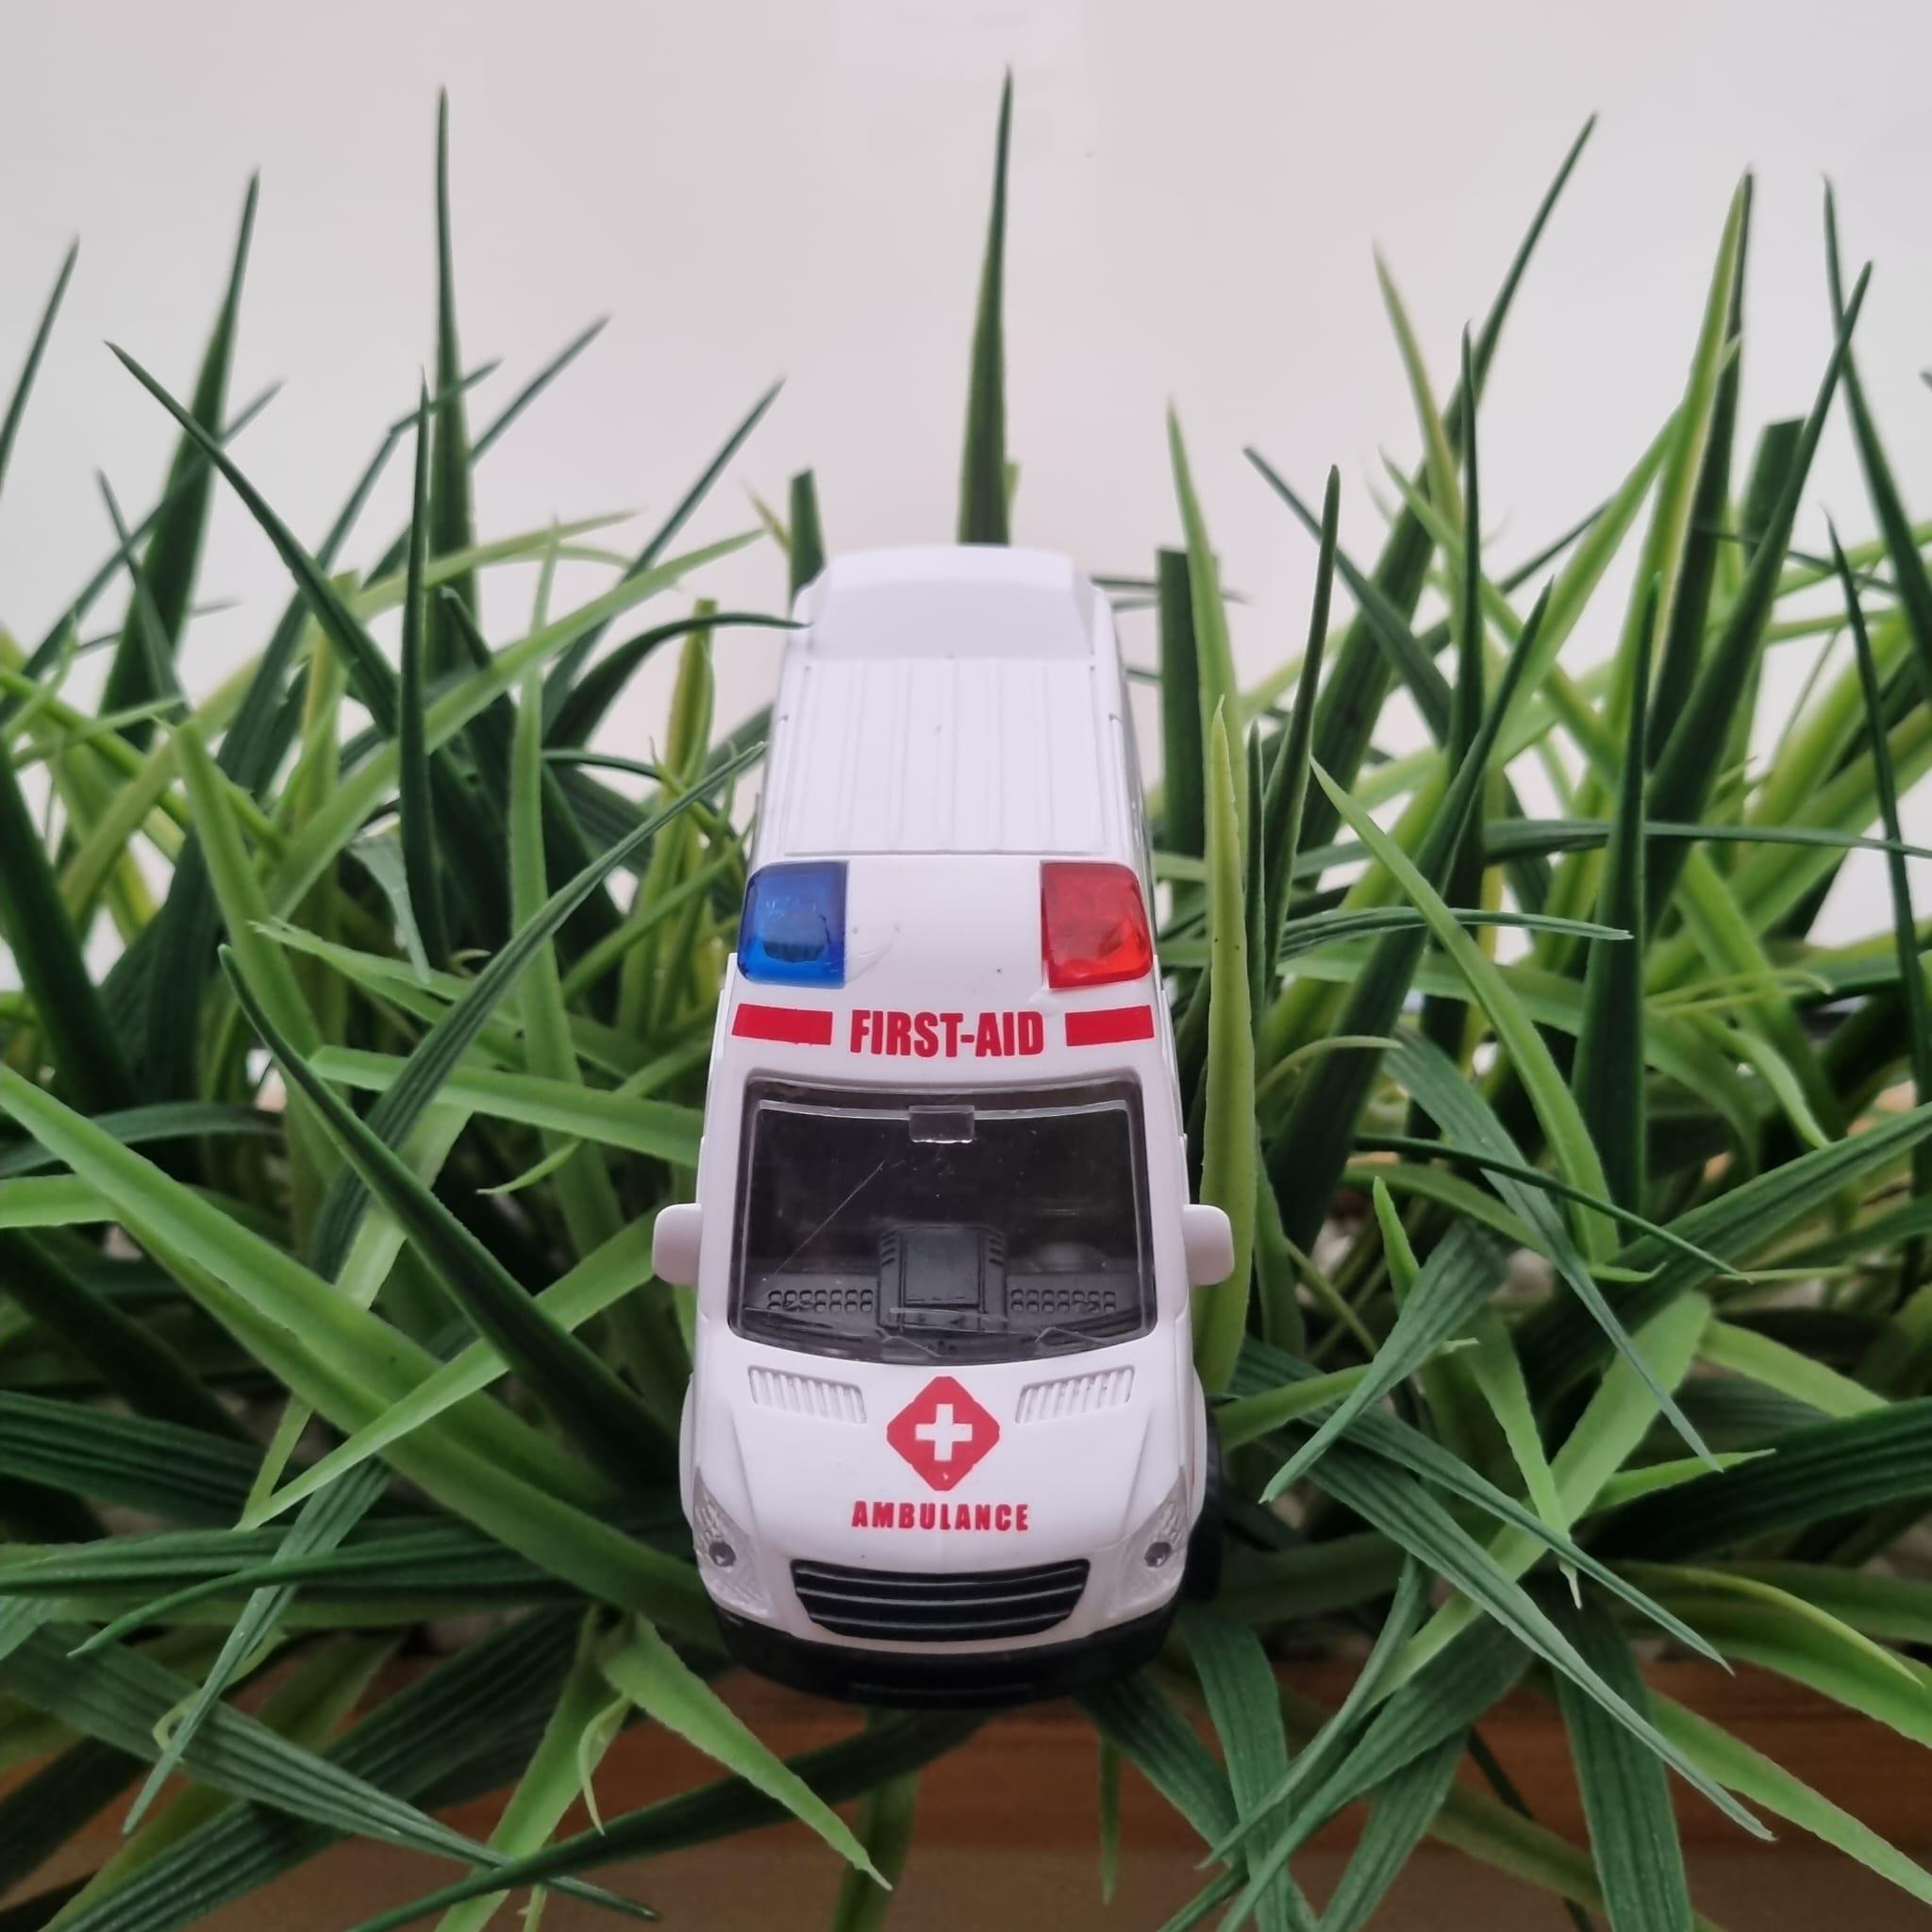ambulance_off: (655, 543, 1231, 1691)
